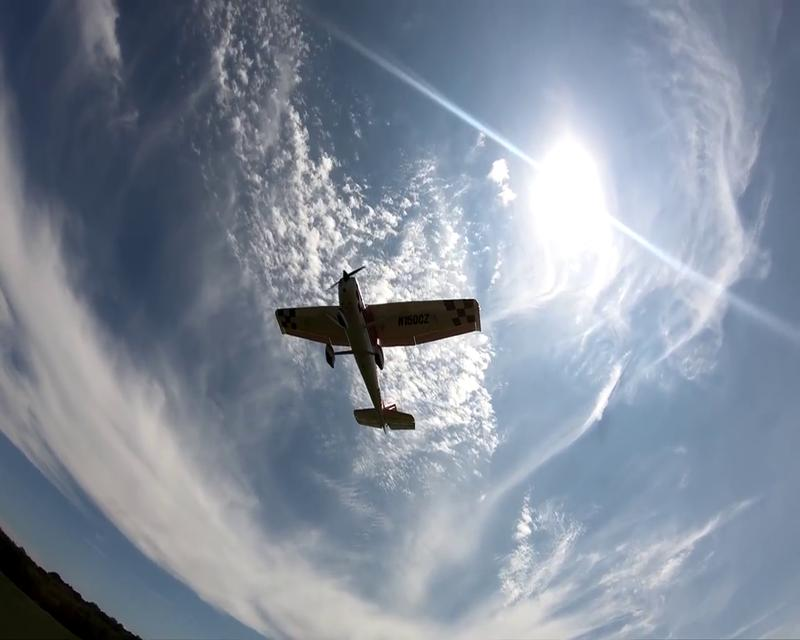UAV: (273, 264, 482, 434)
